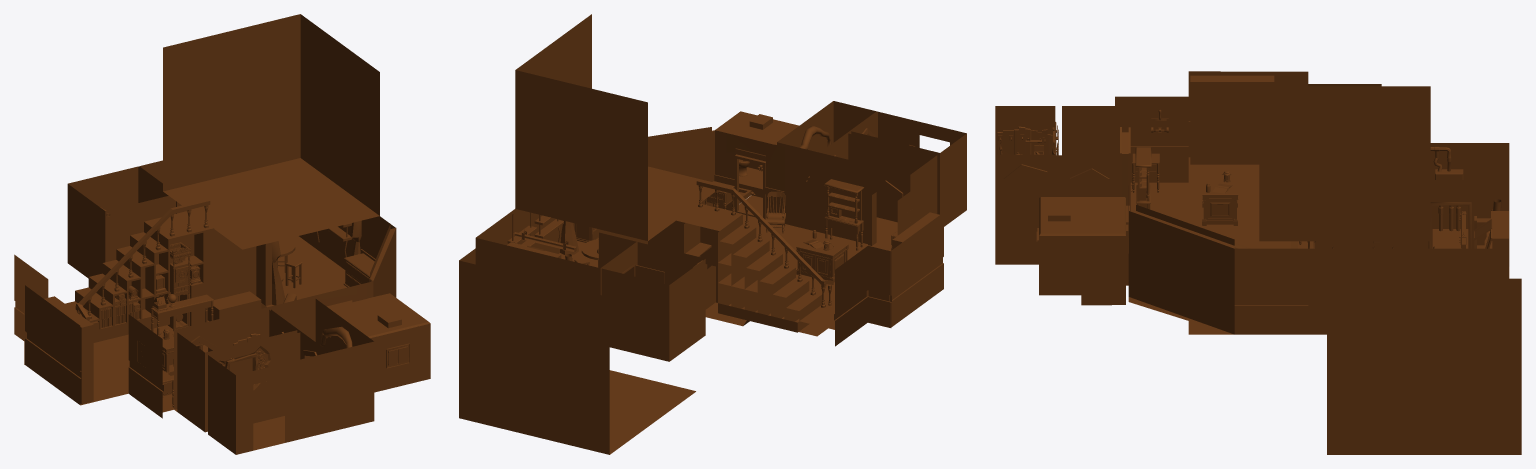
The model's file is 20200220_first.FBX.
The picture shows the model from 3 angles, left to right: view 1: azimuth 30°, elevation 25°; view 2: azimuth 150°, elevation 25°; view 3: azimuth 270°, elevation 25°; orthographic projection. The views are drawn at different scales.
Visible parts, largest first — view 1: Plane206, Plane205, Plane202, Base_walk149, Base_walk165, Object043, Base_walk150, Object058, Box575, Box698, Plane194, Base_walk168 (+30 smaller); view 2: Plane207, Plane206, Object058, Object043, Box573, Box522, Base_walk167, Base_walk165, Plane204, Box547, Plane205, Box575 (+25 smaller); view 3: Plane208, Plane205, Plane193, Box546, Base_walk164, Box697, rest_room_side_wall001, Plane197, Base_walk168, rest_room_top, Box575, Base_walk161 (+16 smaller).
Part boxes in pixels (box(x1,y1,x2,y2)): Plane206: box(163, 14, 300, 191); Plane205: box(300, 14, 379, 215); Plane202: box(163, 158, 379, 249); Base_walk149: box(306, 341, 374, 437); Base_walk165: box(25, 285, 81, 404); Object043: box(65, 211, 214, 322); Base_walk150: box(236, 358, 305, 454); Object058: box(93, 232, 205, 342); Box575: box(67, 184, 105, 278); Box698: box(205, 229, 256, 309); Plane194: box(370, 323, 430, 392); Base_walk168: box(128, 314, 163, 418); Plane207: box(459, 260, 609, 454); Plane206: box(515, 70, 647, 240); Object058: box(684, 223, 809, 332); Object043: box(675, 203, 834, 329); Box573: box(601, 268, 669, 361); Box522: box(775, 142, 865, 242); Base_walk167: box(834, 246, 891, 346); Base_walk165: box(889, 212, 943, 327); Plane204: box(609, 370, 695, 454); Box547: box(475, 238, 600, 294); Plane205: box(516, 14, 591, 88); Box575: box(669, 259, 705, 361); Plane208: box(1327, 278, 1521, 454); Plane205: box(1259, 86, 1430, 241); Plane193: box(1128, 211, 1234, 334); Box546: box(1308, 248, 1508, 334); Base_walk164: box(1234, 248, 1308, 334); Box697: box(1190, 75, 1274, 164); rest_room_side_wall001: box(1039, 236, 1125, 305); Plane197: box(995, 179, 1121, 264); Base_walk168: box(1115, 96, 1188, 182); rest_room_top: box(1039, 197, 1125, 235); Box575: box(1430, 143, 1509, 228); Base_walk161: box(995, 154, 1121, 178).
Size of what is drawn, in the model's own units: 1117 by 1021 by 1352.
